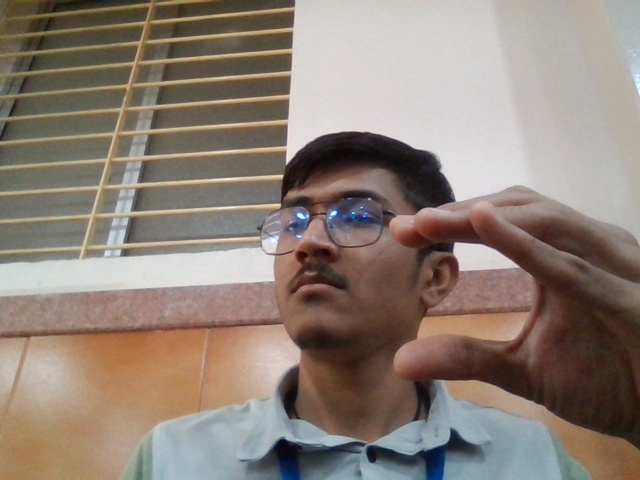No: (379, 172, 640, 449)
